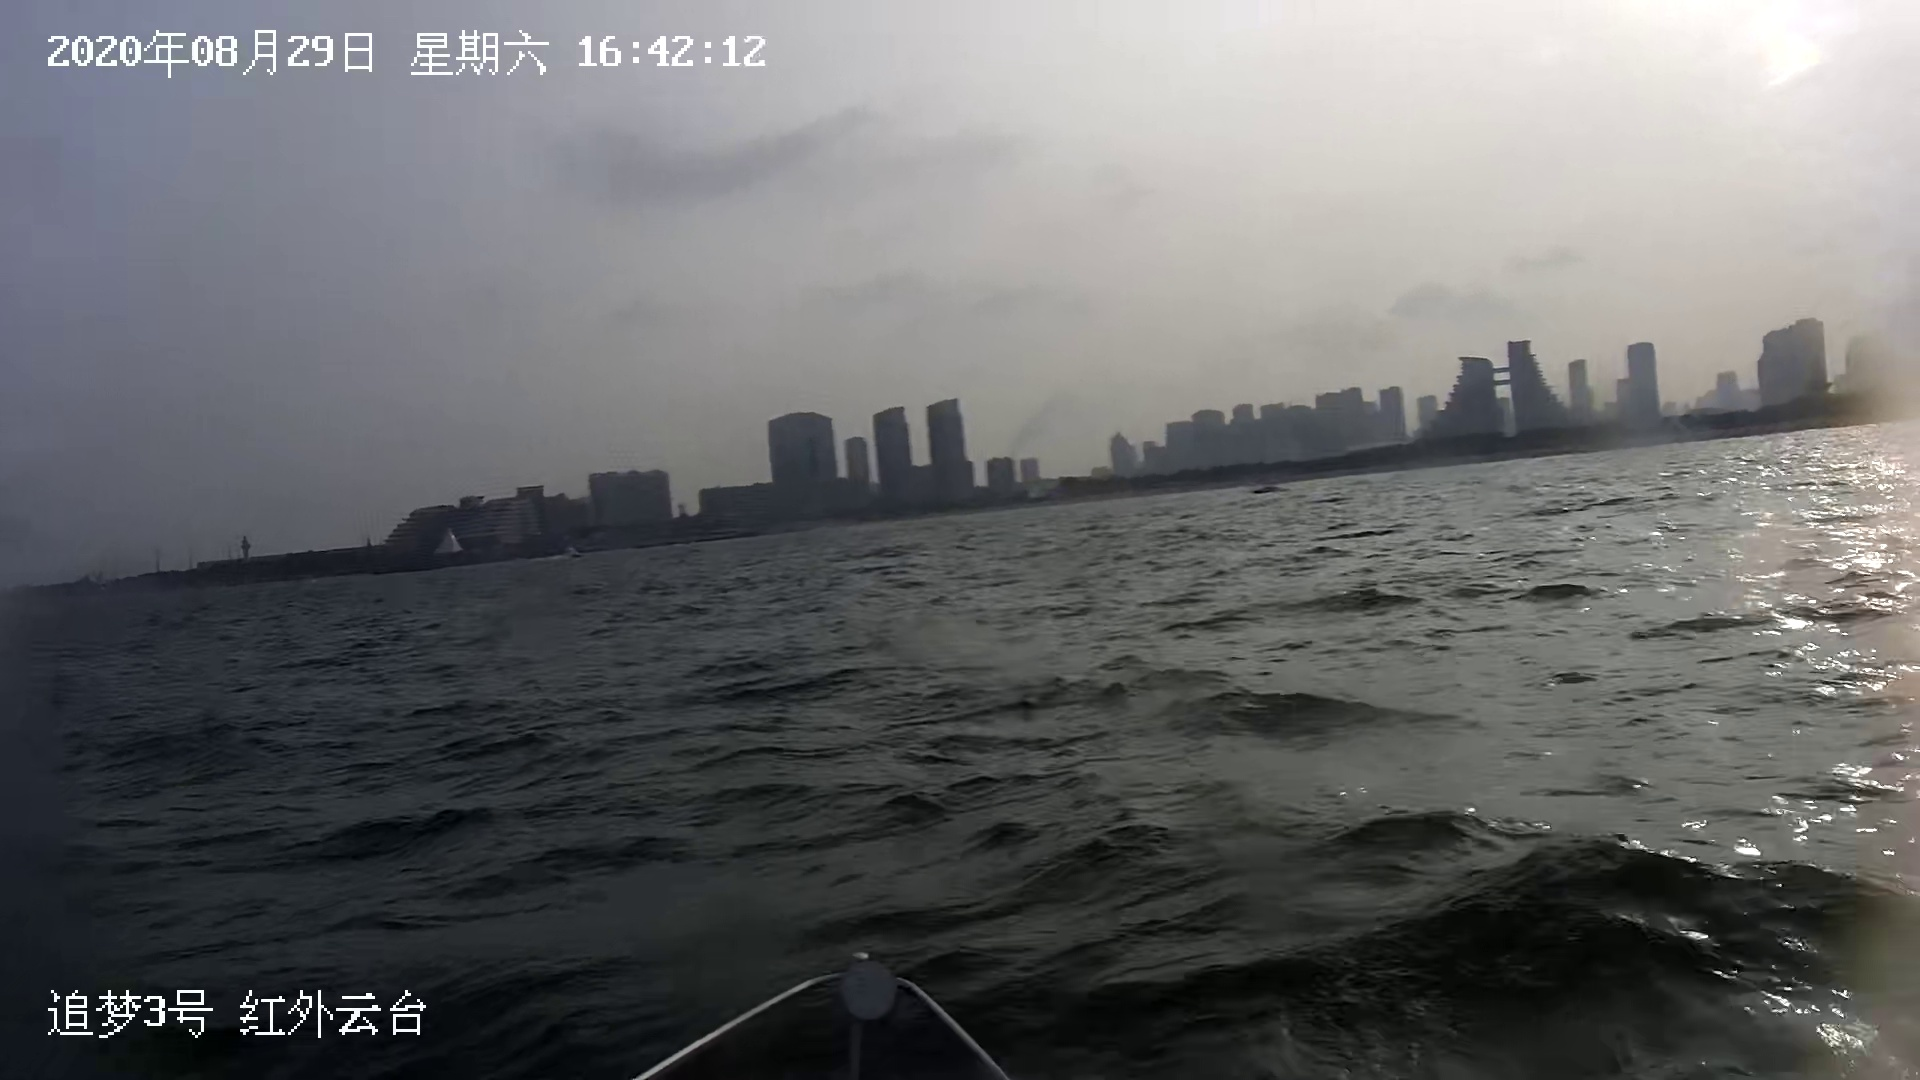barrier: (1247, 483, 1288, 495)
coast: (11, 295, 1911, 607)
